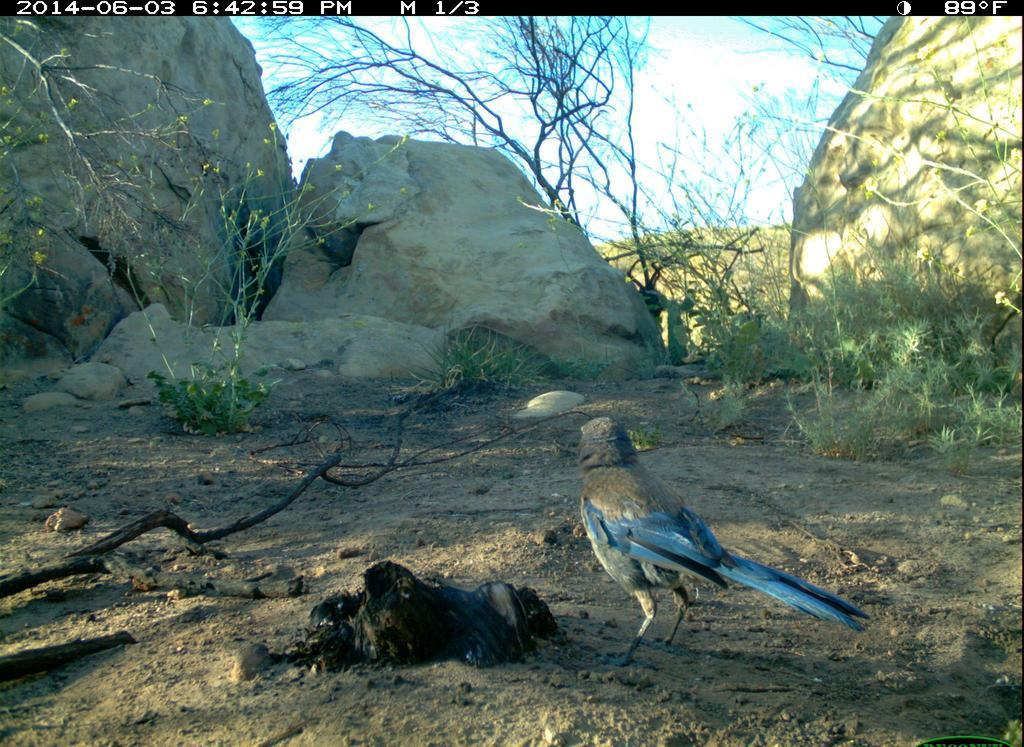bird: (574, 409, 875, 671)
